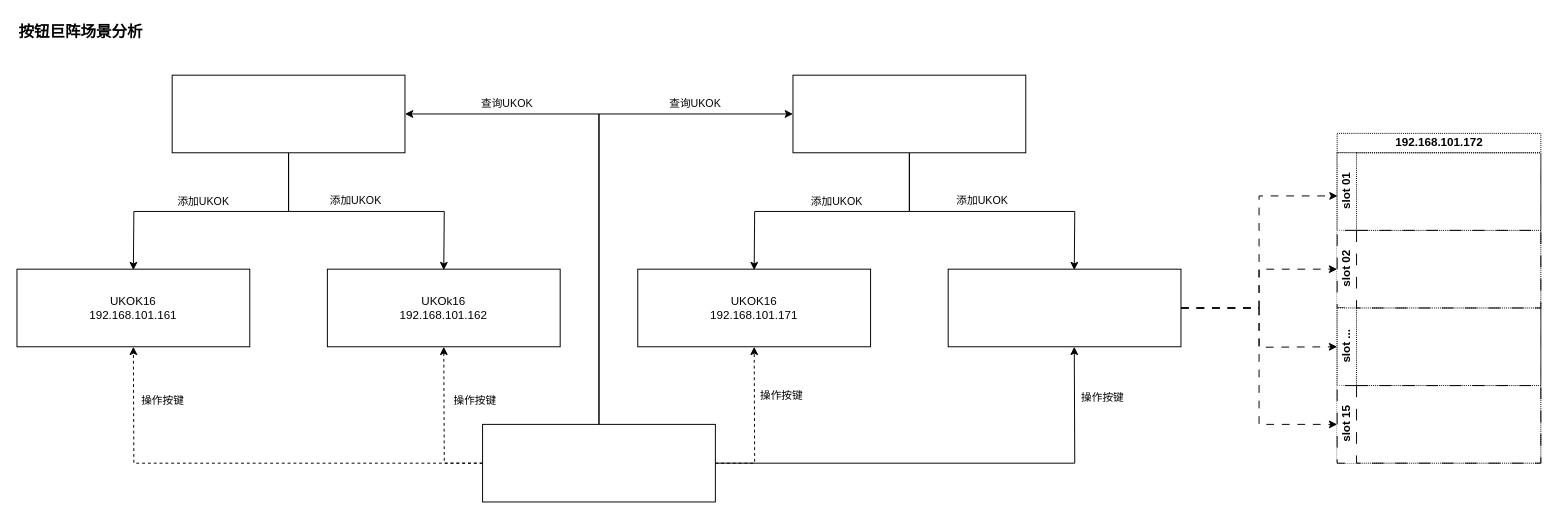
This 1558x519 diagram has some shape labels left out. Each missing label, with the centre of its shape:
"UKOK16 192.168.101.172" goes at (1064,307).
"USB Server 192.168.101.101" goes at (288,113).
"USB Server 192.168.101.102" goes at (909,113).
"U盾操作员 192.168.101.251" goes at (598,462).
